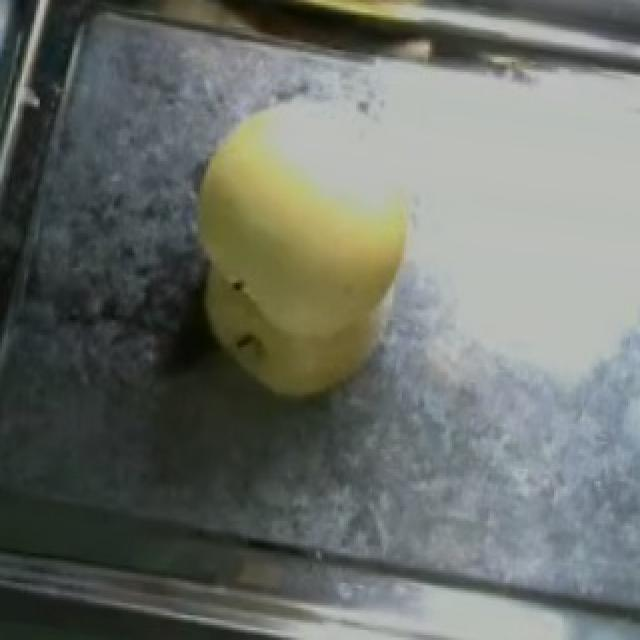Fruit: (152, 84, 454, 422)
